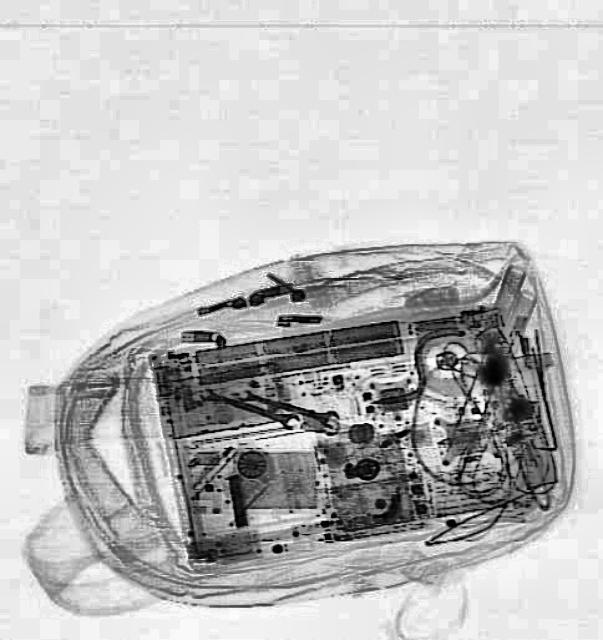Wrench: (196, 383, 300, 431), (234, 383, 340, 429)
